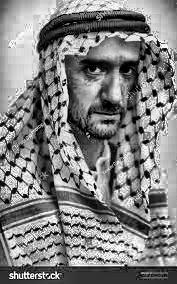angry: (34, 15, 162, 146)
